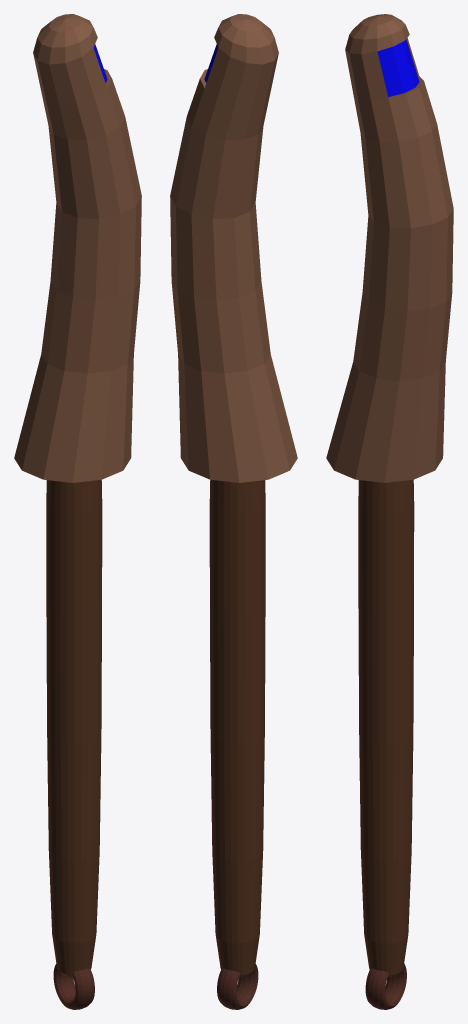
File: Wand 41.glb
3 views of the same model, side by side, from view 1: azimuth 30°, elevation 25°; view 2: azimuth 150°, elevation 25°; view 3: azimuth 330°, elevation 25° (orthographic).
Visible parts, largest first — view 1: GeneratedWand; view 2: GeneratedWand; view 3: GeneratedWand.
Boxes of the visible parts, left/top/right/bottom form: GeneratedWand: left=14, top=14, right=141, bottom=1009; GeneratedWand: left=170, top=14, right=297, bottom=1009; GeneratedWand: left=326, top=14, right=453, bottom=1009.
Bounding box in the file's own units: 0.0644 × 0.5337 × 0.0572.
